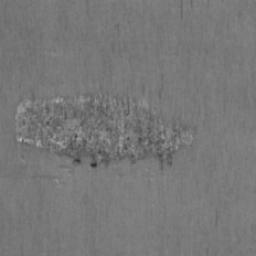Rolled pit: (15, 94, 192, 166)
